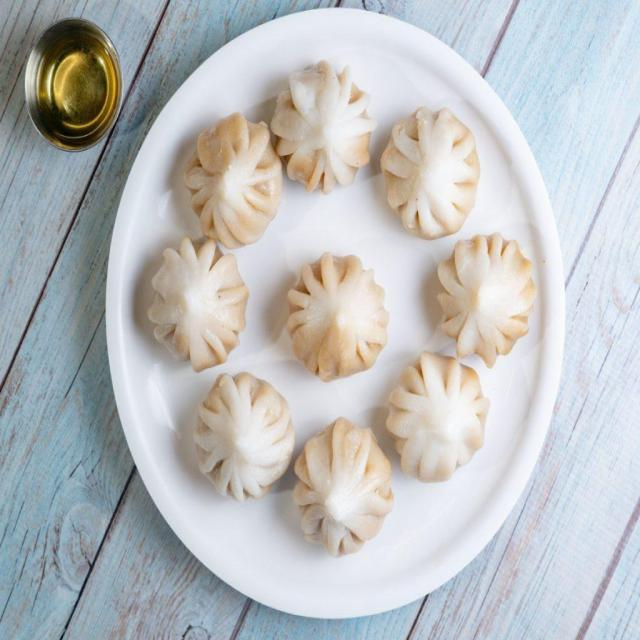modak: (293, 402, 411, 574), (376, 353, 496, 486), (194, 356, 296, 508), (287, 239, 396, 380), (138, 234, 250, 366), (276, 58, 380, 198), (446, 261, 530, 373), (391, 126, 474, 230), (194, 142, 276, 235)
